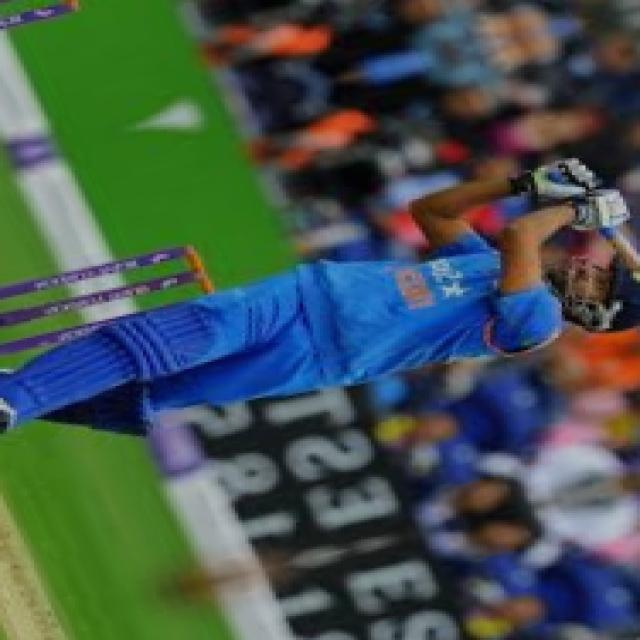toe: (636, 256, 640, 282)
